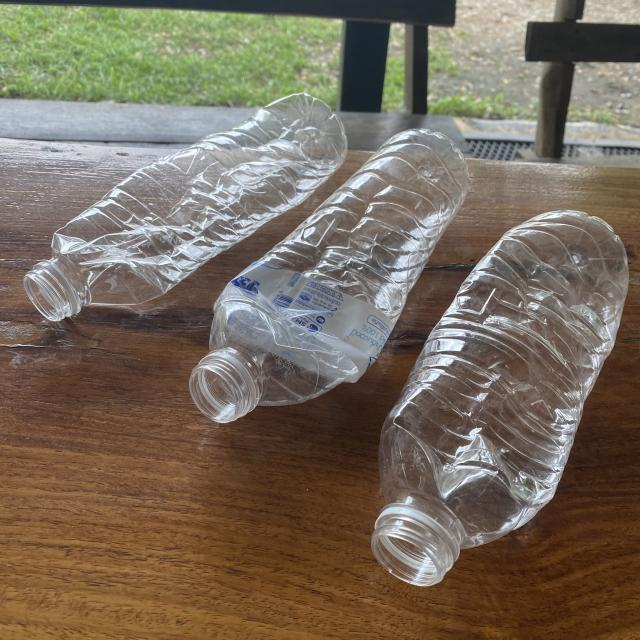plastik: (371, 210, 629, 586), (189, 130, 469, 422), (24, 94, 348, 321)
